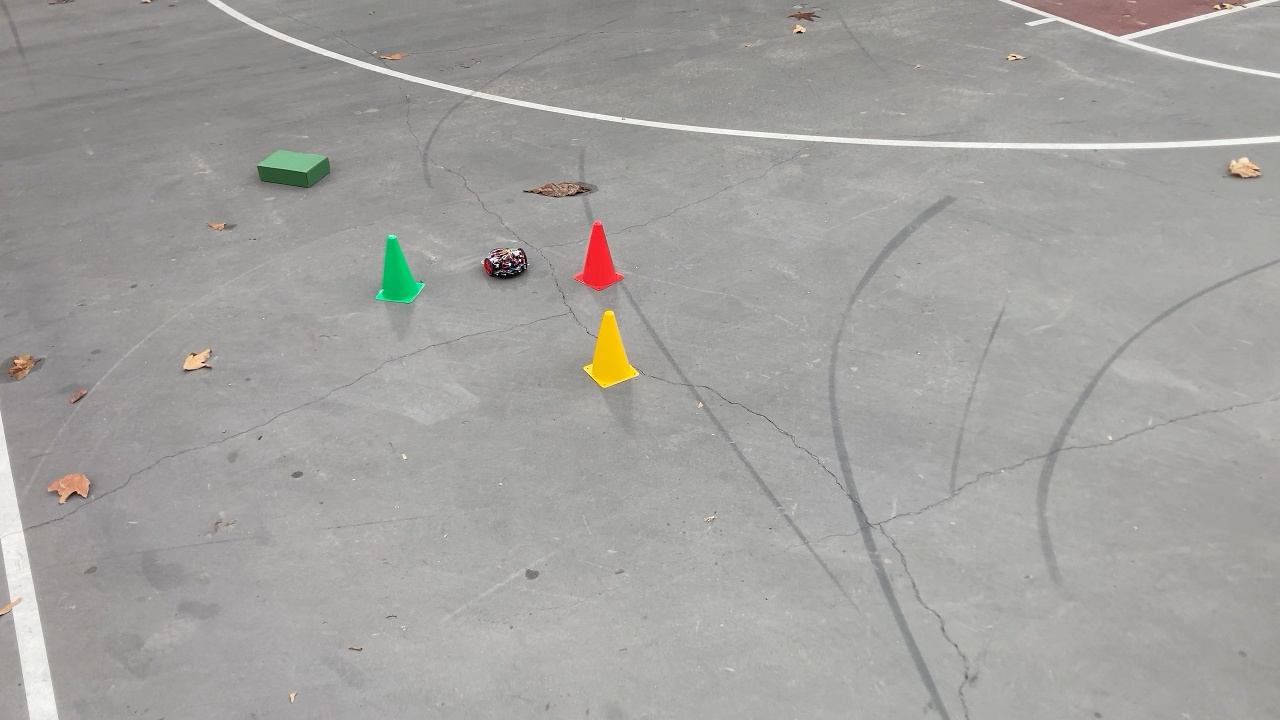green_cone: (369, 233, 429, 305)
red_cone: (573, 220, 625, 291)
robot: (479, 243, 530, 283)
yellow_cone: (579, 307, 641, 391)
